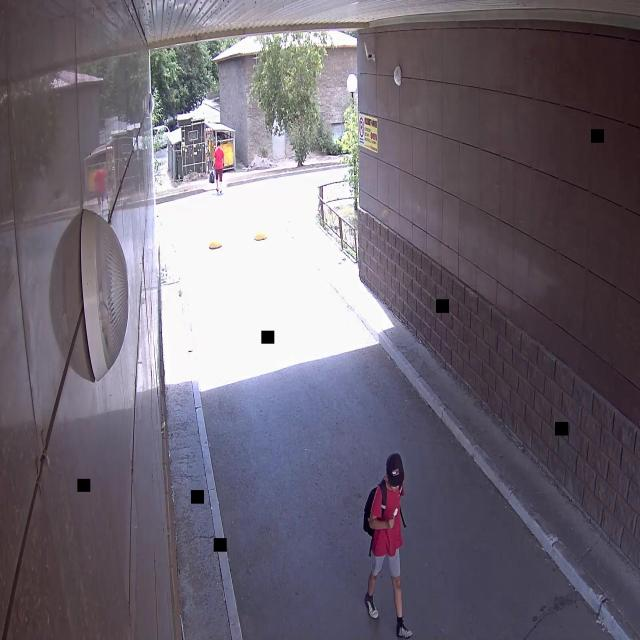backpack: (358, 477, 389, 538)
paper bag: (207, 169, 216, 187)
